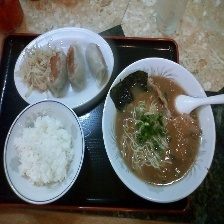rice: (12, 112, 73, 191)
